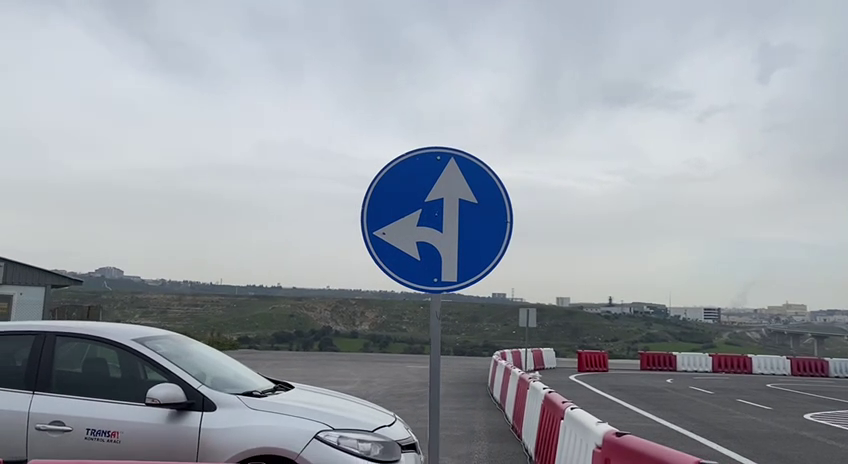forwardAndLeft: (358, 144, 516, 296)
